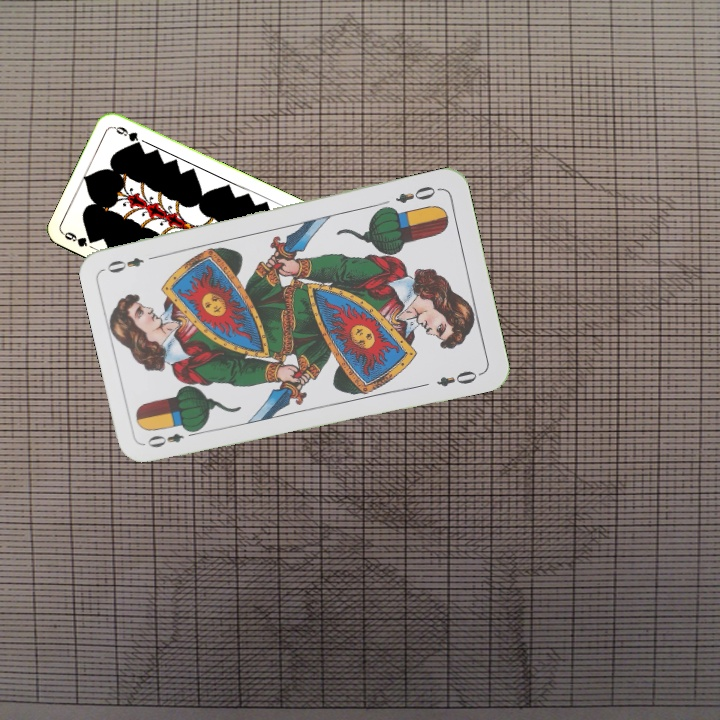EO: (143, 424, 201, 450), (391, 182, 443, 206)
G9: (60, 228, 90, 250)
